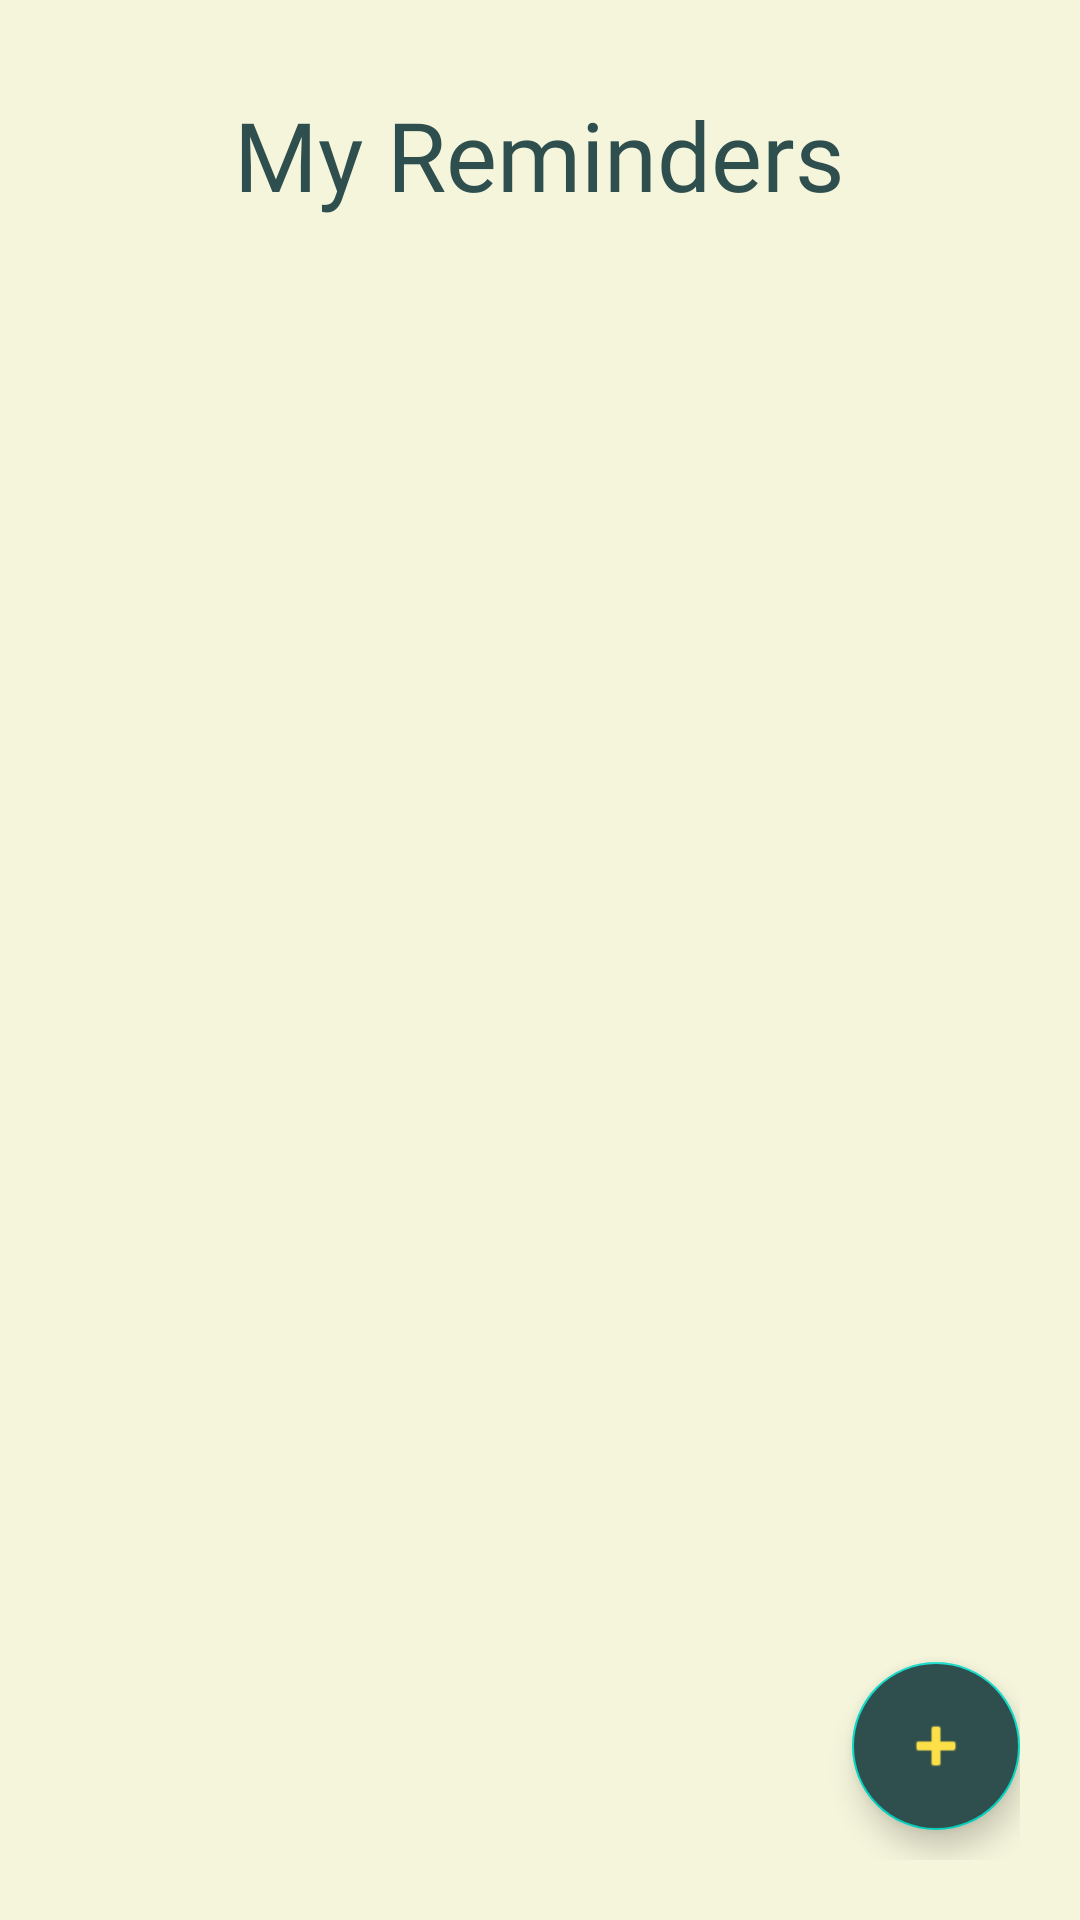

Named icons in this screenshot (1080px×1920px) and their bounding boxes, [x1, y1, x2, y2]:
add: [852, 1662, 1020, 1830]
